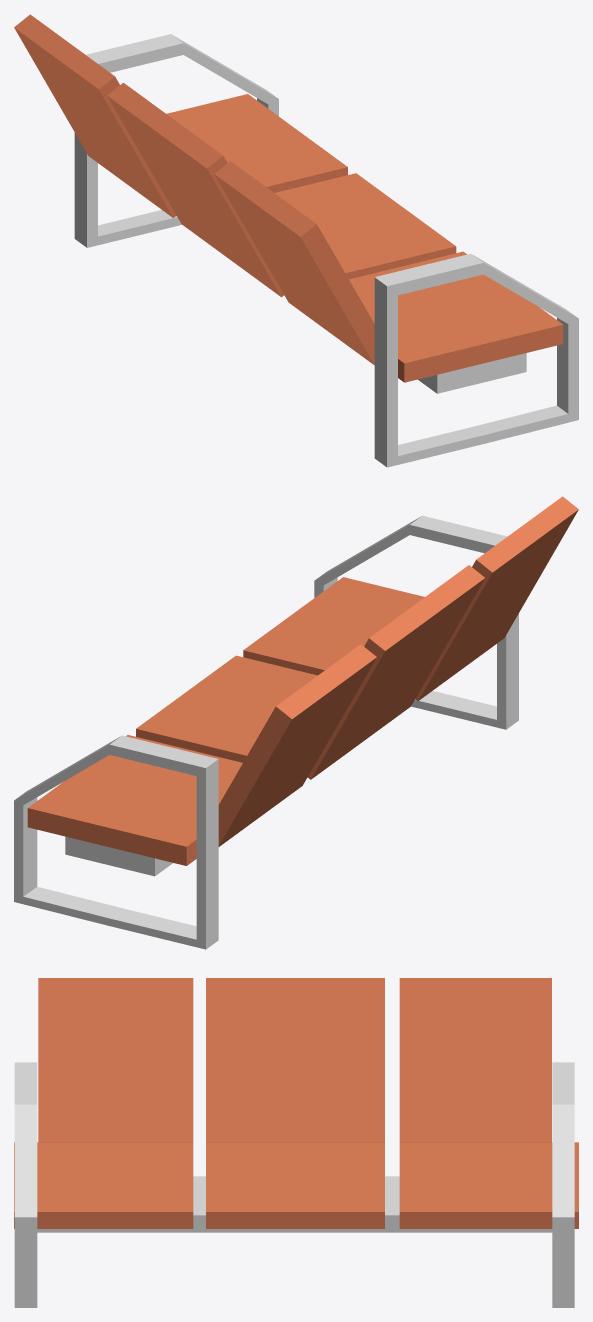
Rendered from скамейка.fbx.
3 views of the same model, one above another, from view 1: azimuth 30°, elevation 25°; view 2: azimuth 150°, elevation 25°; view 3: azimuth 270°, elevation 25° (orthographic). The views are drawn at different scales.
Parts seen in each view (by area): view 1: Сиденья, Основа; view 2: Сиденья, Основа; view 3: Сиденья, Основа.
Part boxes in pixels (x1,y1,x2,y2): Сиденья: (14,14,563,382); Основа: (74,34,578,467); Сиденья: (27,496,578,865); Основа: (14,515,518,949); Сиденья: (14,978,578,1228); Основа: (14,1062,574,1307).
Size of the model in its own units: 3.06 by 2.73 by 6.31.
